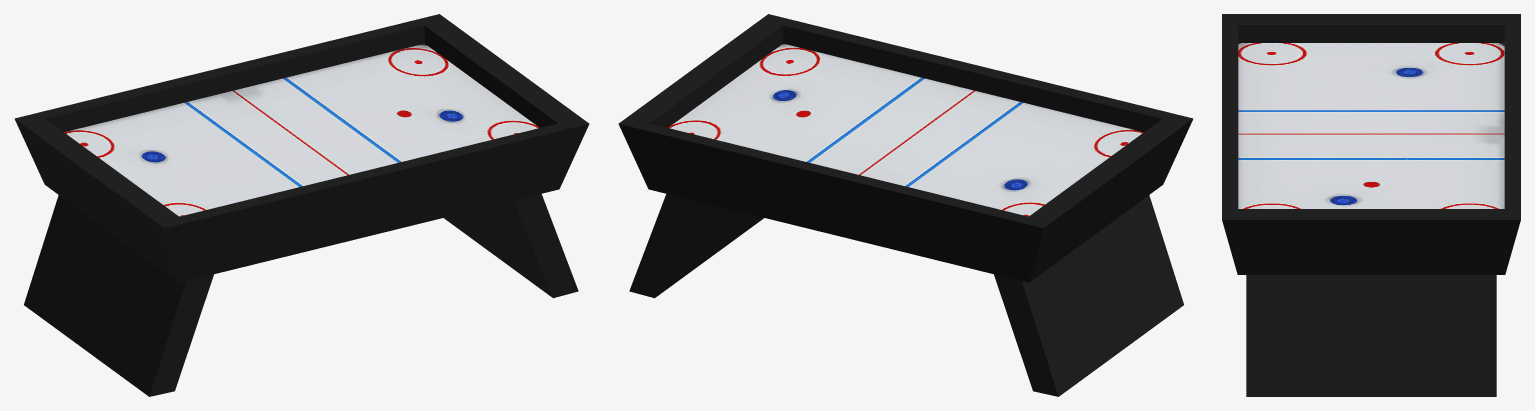
File: AirHockeyTable.fbx
3 views of the same model, side by side, from view 1: azimuth 30°, elevation 25°; view 2: azimuth 150°, elevation 25°; view 3: azimuth 270°, elevation 25° (orthographic).
Visible parts, largest first — view 1: Air Hockey Table.002; view 2: Air Hockey Table.002; view 3: Air Hockey Table.002.
Part boxes in pixels (x1,y1,x2,y2): Air Hockey Table.002: [14, 14, 589, 396]; Air Hockey Table.002: [618, 14, 1193, 396]; Air Hockey Table.002: [1222, 14, 1520, 396].
Bounding box in the file's own units: 202 × 80.11 × 122.
